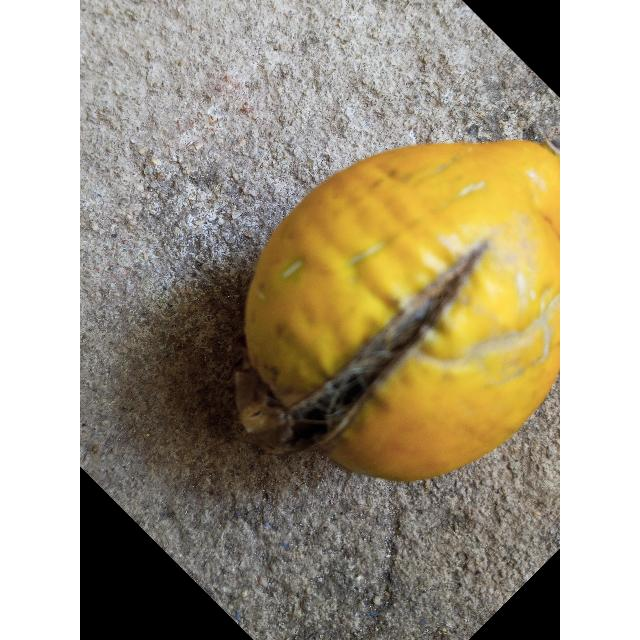damaged: (237, 140, 560, 484)
